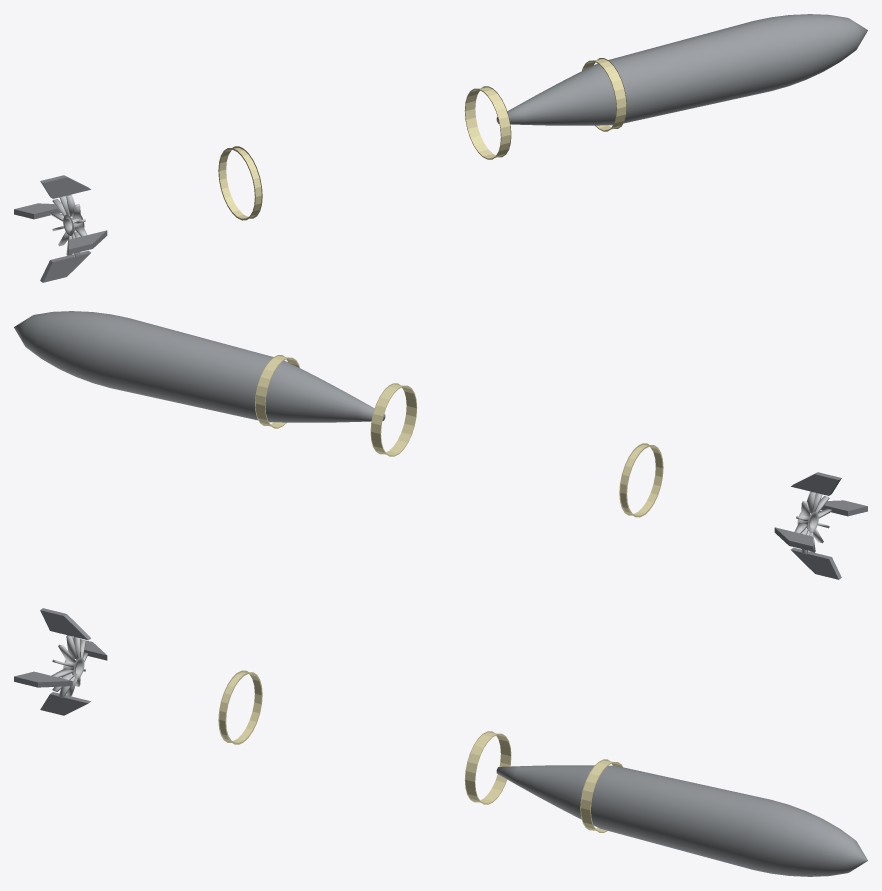
Rendered from CN_TORP_Yu4_LOD1.fbx.
3 views of the same model, one above another, from view 1: azimuth 30°, elevation 25°; view 2: azimuth 150°, elevation 25°; view 3: azimuth 330°, elevation 25° (orthographic).
Parts seen in each view (by area): view 1: WPN_CN_TORP_Yu4_LOD1_Body, WPN_CN_TORP_Yu4_LOD1_Marking, WPN_CN_TORP_Yu4_LOD1_Fins, WPN_CN_TORP_Yu4_LOD1_Propulsor; view 2: WPN_CN_TORP_Yu4_LOD1_Body, WPN_CN_TORP_Yu4_LOD1_Marking, WPN_CN_TORP_Yu4_LOD1_Fins, WPN_CN_TORP_Yu4_LOD1_Propulsor; view 3: WPN_CN_TORP_Yu4_LOD1_Body, WPN_CN_TORP_Yu4_LOD1_Marking, WPN_CN_TORP_Yu4_LOD1_Fins, WPN_CN_TORP_Yu4_LOD1_Propulsor.
Boxes of the visible parts, bbox=[...] form: WPN_CN_TORP_Yu4_LOD1_Body: bbox=[496, 14, 867, 125]; WPN_CN_TORP_Yu4_LOD1_Marking: bbox=[218, 58, 626, 220]; WPN_CN_TORP_Yu4_LOD1_Fins: bbox=[14, 175, 107, 282]; WPN_CN_TORP_Yu4_LOD1_Propulsor: bbox=[50, 194, 87, 257]; WPN_CN_TORP_Yu4_LOD1_Body: bbox=[14, 311, 385, 422]; WPN_CN_TORP_Yu4_LOD1_Marking: bbox=[255, 355, 663, 517]; WPN_CN_TORP_Yu4_LOD1_Fins: bbox=[774, 472, 867, 579]; WPN_CN_TORP_Yu4_LOD1_Propulsor: bbox=[794, 491, 831, 554]; WPN_CN_TORP_Yu4_LOD1_Body: bbox=[496, 765, 867, 876]; WPN_CN_TORP_Yu4_LOD1_Marking: bbox=[218, 670, 622, 832]; WPN_CN_TORP_Yu4_LOD1_Fins: bbox=[14, 608, 107, 715]; WPN_CN_TORP_Yu4_LOD1_Propulsor: bbox=[51, 635, 87, 697].
Bounding box in the file's own units: 7.01 × 0.8082 × 0.8082.
